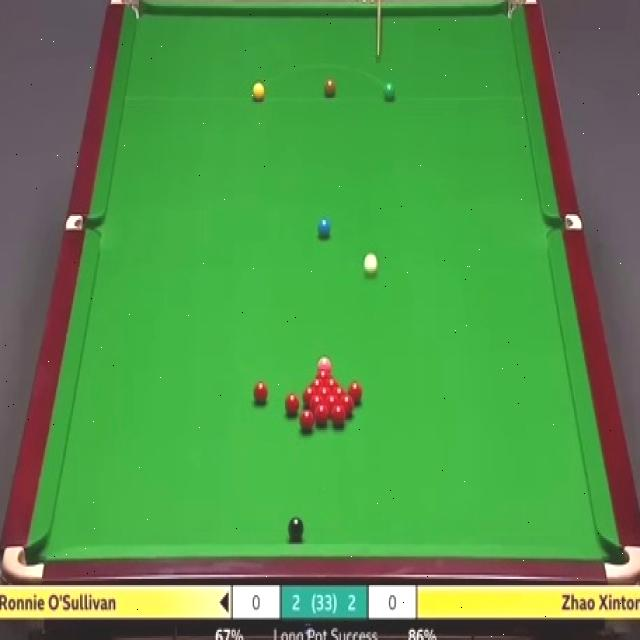black-ball: (288, 514, 304, 542)
blue-ball: (316, 217, 332, 241)
brown-ball: (323, 80, 336, 98)
green-ball: (384, 82, 395, 102)
pink-ball: (318, 358, 333, 370)
red-ball: (283, 392, 300, 420), (252, 382, 270, 408), (299, 410, 315, 436), (349, 379, 365, 404), (340, 394, 356, 417), (332, 404, 348, 426), (314, 404, 328, 429), (309, 394, 326, 414), (325, 394, 340, 415), (323, 379, 341, 392), (316, 368, 334, 378), (315, 386, 331, 397), (302, 386, 316, 398), (309, 379, 325, 388), (332, 388, 346, 397)
white-ball: (363, 251, 379, 277)
yellow-ball: (252, 81, 266, 102)
